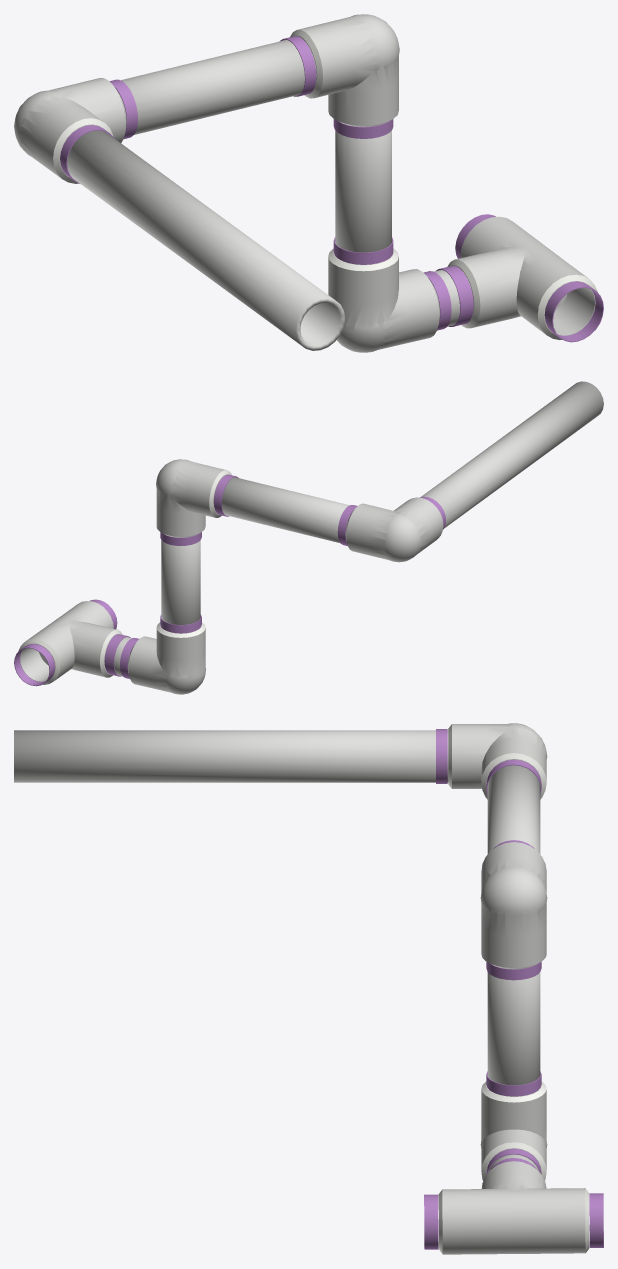
File: slab_pipes_hvac__dehumidifier__182fe2b3.glb
3 renders of one model, top to bottom at view 1: azimuth 30°, elevation 25°; view 2: azimuth 150°, elevation 25°; view 3: azimuth 270°, elevation 25°, orthographic. The views are drawn at different scales.
Visible parts, largest first — view 1: pipe_hvac_condensate_dehum, fit_wye_pipe_hvac_condensate_dehum; view 2: pipe_hvac_condensate_dehum, fit_wye_pipe_hvac_condensate_dehum; view 3: pipe_hvac_condensate_dehum, fit_wye_pipe_hvac_condensate_dehum.
Boxes of the visible parts, x1,y1,x2,y2 form: pipe_hvac_condensate_dehum: (14,14,473,352); fit_wye_pipe_hvac_condensate_dehum: (435,214,603,342); pipe_hvac_condensate_dehum: (104,381,603,694); fit_wye_pipe_hvac_condensate_dehum: (14,599,130,686); pipe_hvac_condensate_dehum: (14,723,547,1180); fit_wye_pipe_hvac_condensate_dehum: (424,1158,603,1254).
Bounding box in the file's own units: 0.2935 × 0.1731 × 0.2997.
